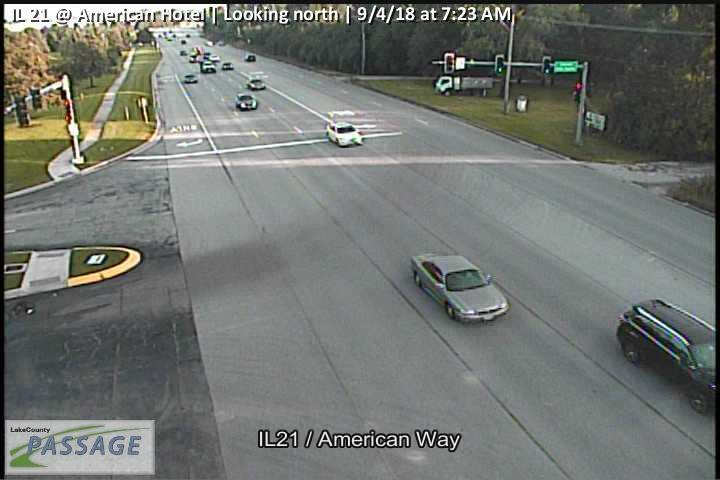SUV: (617, 298, 716, 412)
Sedan: (407, 251, 509, 324), (325, 122, 361, 148), (233, 92, 258, 110), (246, 78, 265, 89), (201, 62, 216, 71), (184, 73, 196, 82)
Truck: (434, 74, 494, 96)
